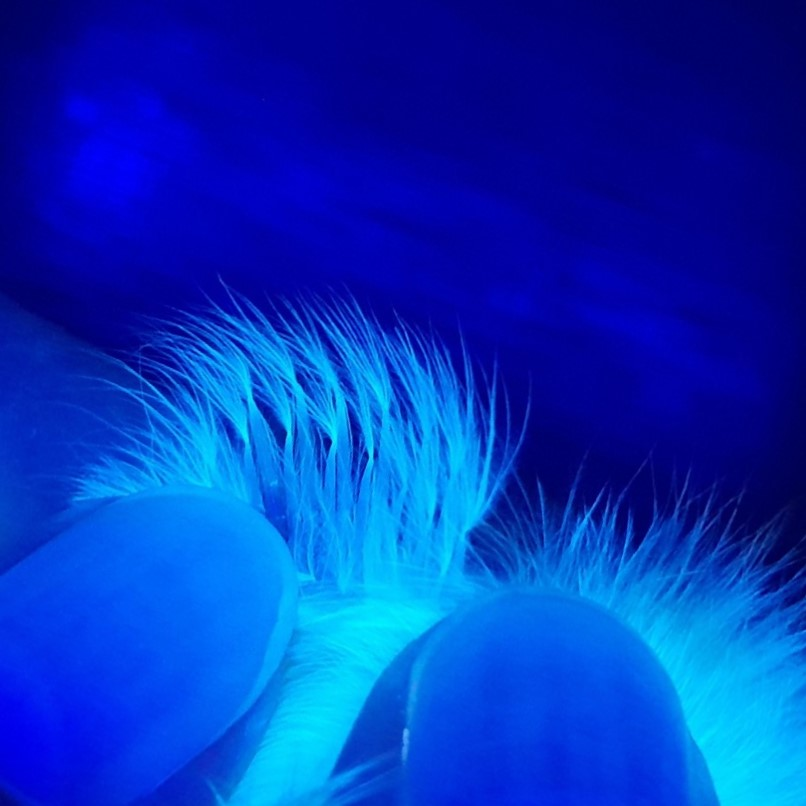female: (227, 384, 487, 627)
